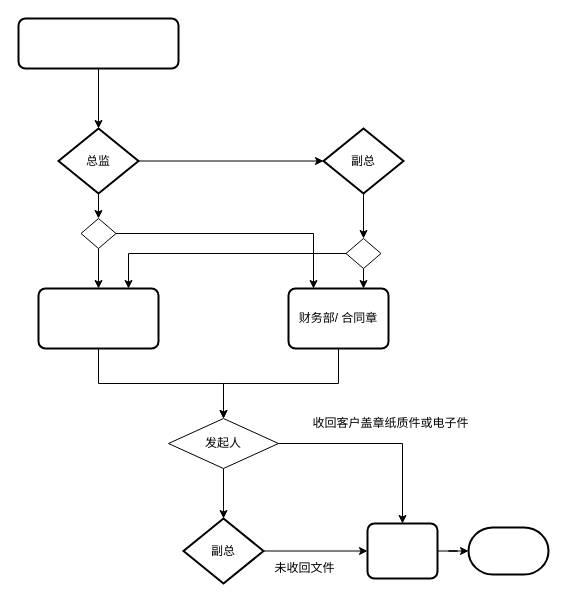
Some shapes in this 566 by 601 pixel diagram are drawn without their labels. The centre of each missing label's shape, as x and y in pixels:
总经办/ 公章: point (98, 318)
文员归档: point (402, 550)
输入或登记销售协议: point (98, 43)
